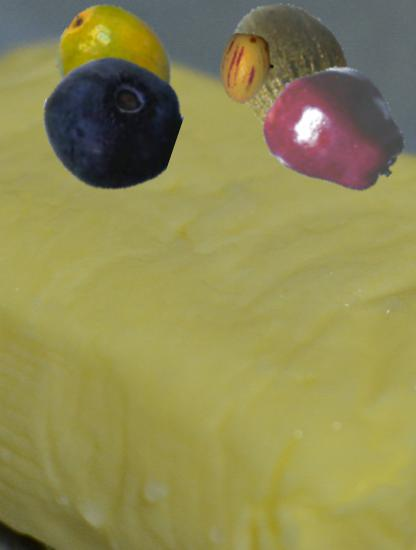Apple: (267, 61, 406, 200)
Blueberry: (41, 55, 179, 193)
Maracuja: (53, 5, 175, 127)
Melon: (220, 1, 362, 143)
Pepino: (211, 32, 283, 104)
